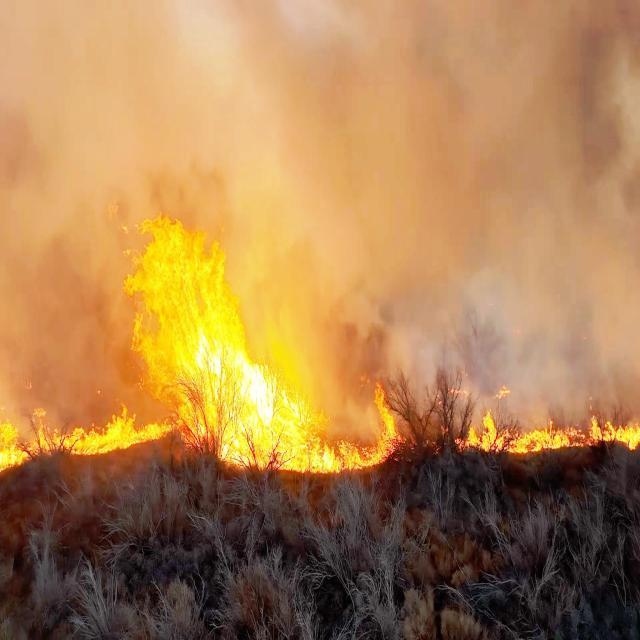Fire: (125, 198, 295, 474), (277, 401, 640, 472), (1, 402, 180, 470)
Smoke: (287, 0, 640, 390), (1, 1, 282, 230), (2, 238, 122, 411)
